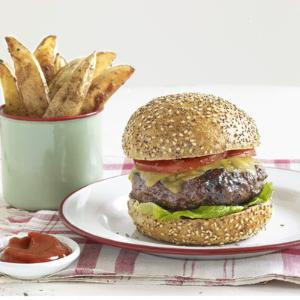cheeseburger: (119, 80, 276, 257)
fries: (1, 30, 130, 120)
